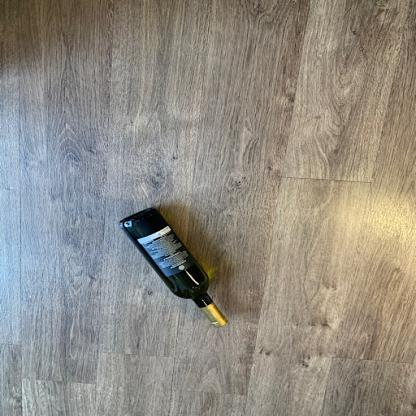trash: (119, 206, 234, 329)
